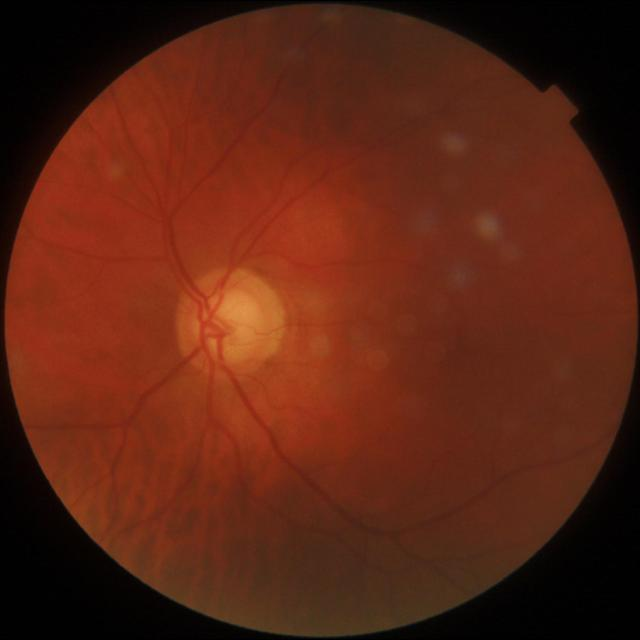OC: (194, 293, 262, 365)
OD: (174, 270, 285, 378)
